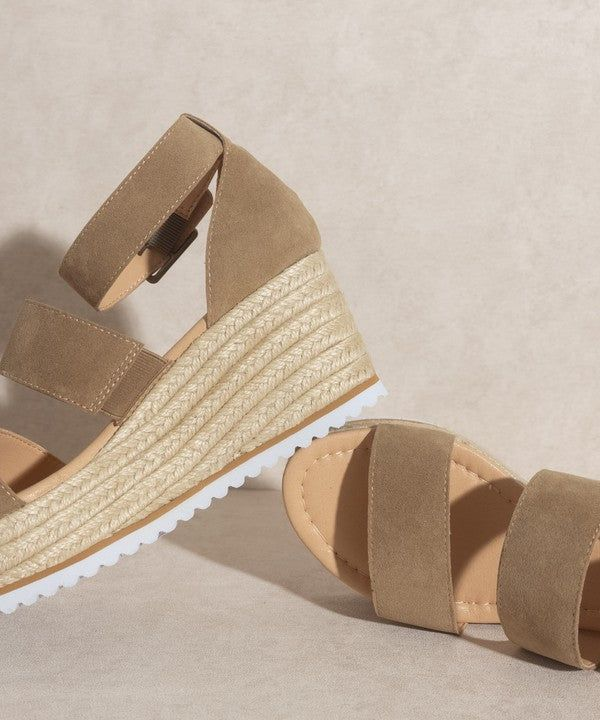gamuza: (1, 111, 600, 671)
